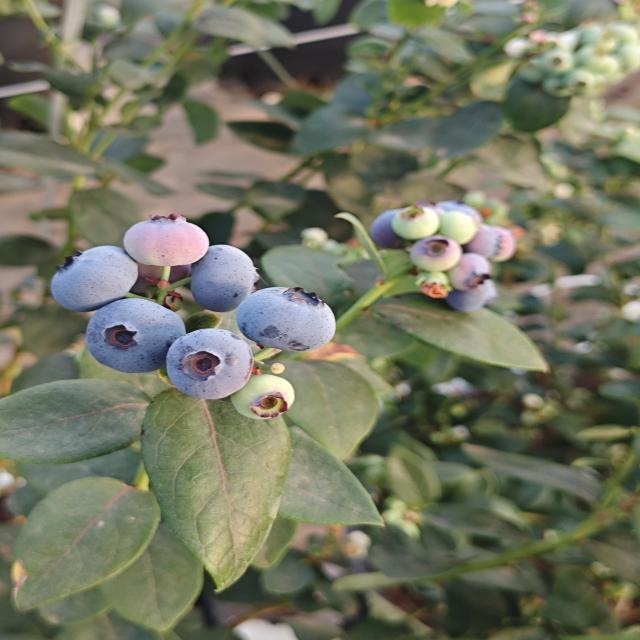ripe: (79, 305, 184, 375), (234, 285, 338, 354), (164, 327, 255, 401), (51, 239, 132, 307), (188, 245, 258, 305), (356, 209, 420, 249), (448, 274, 494, 316), (473, 231, 514, 259)
